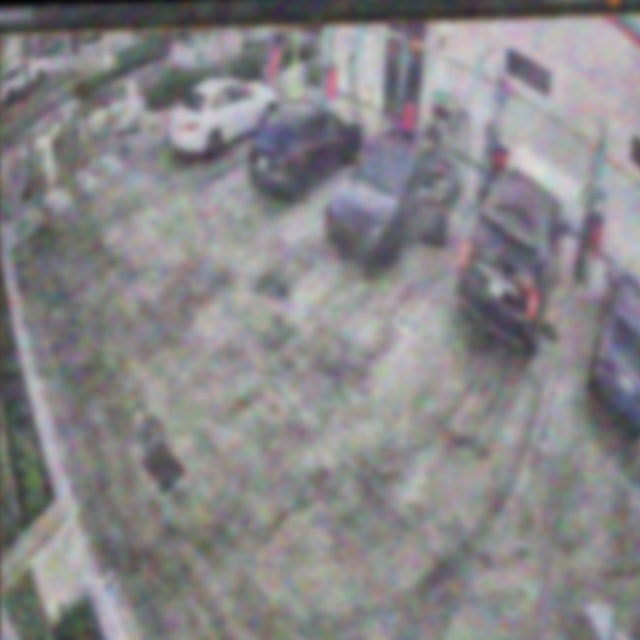Car: (452, 168, 575, 363), (321, 129, 466, 272), (247, 99, 366, 201), (169, 77, 282, 156)
